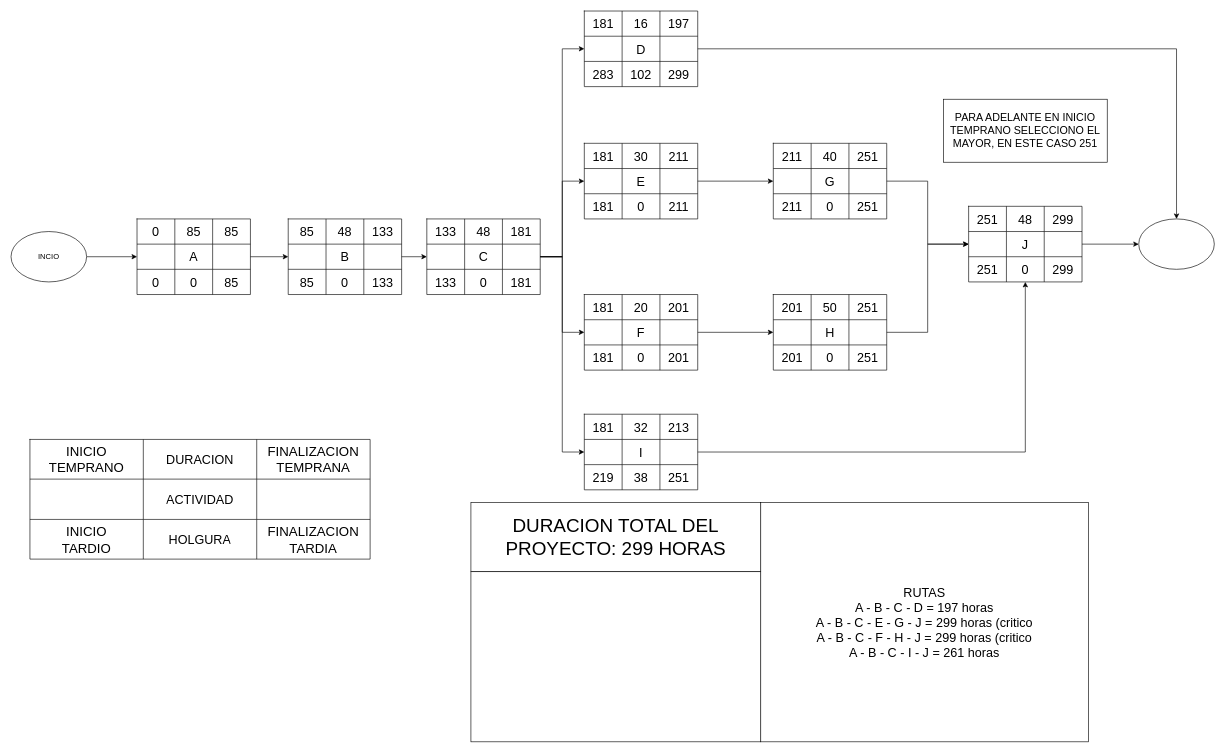
This 1225x753 diagram has some shape labels left out. The centre of each missing label's shape, as x and y in pixels:
ACTIVIDADES CRITICAS: (holgura = 0) A B C E F G H J: pixel 615 656
FIN: pixel 1176 243
